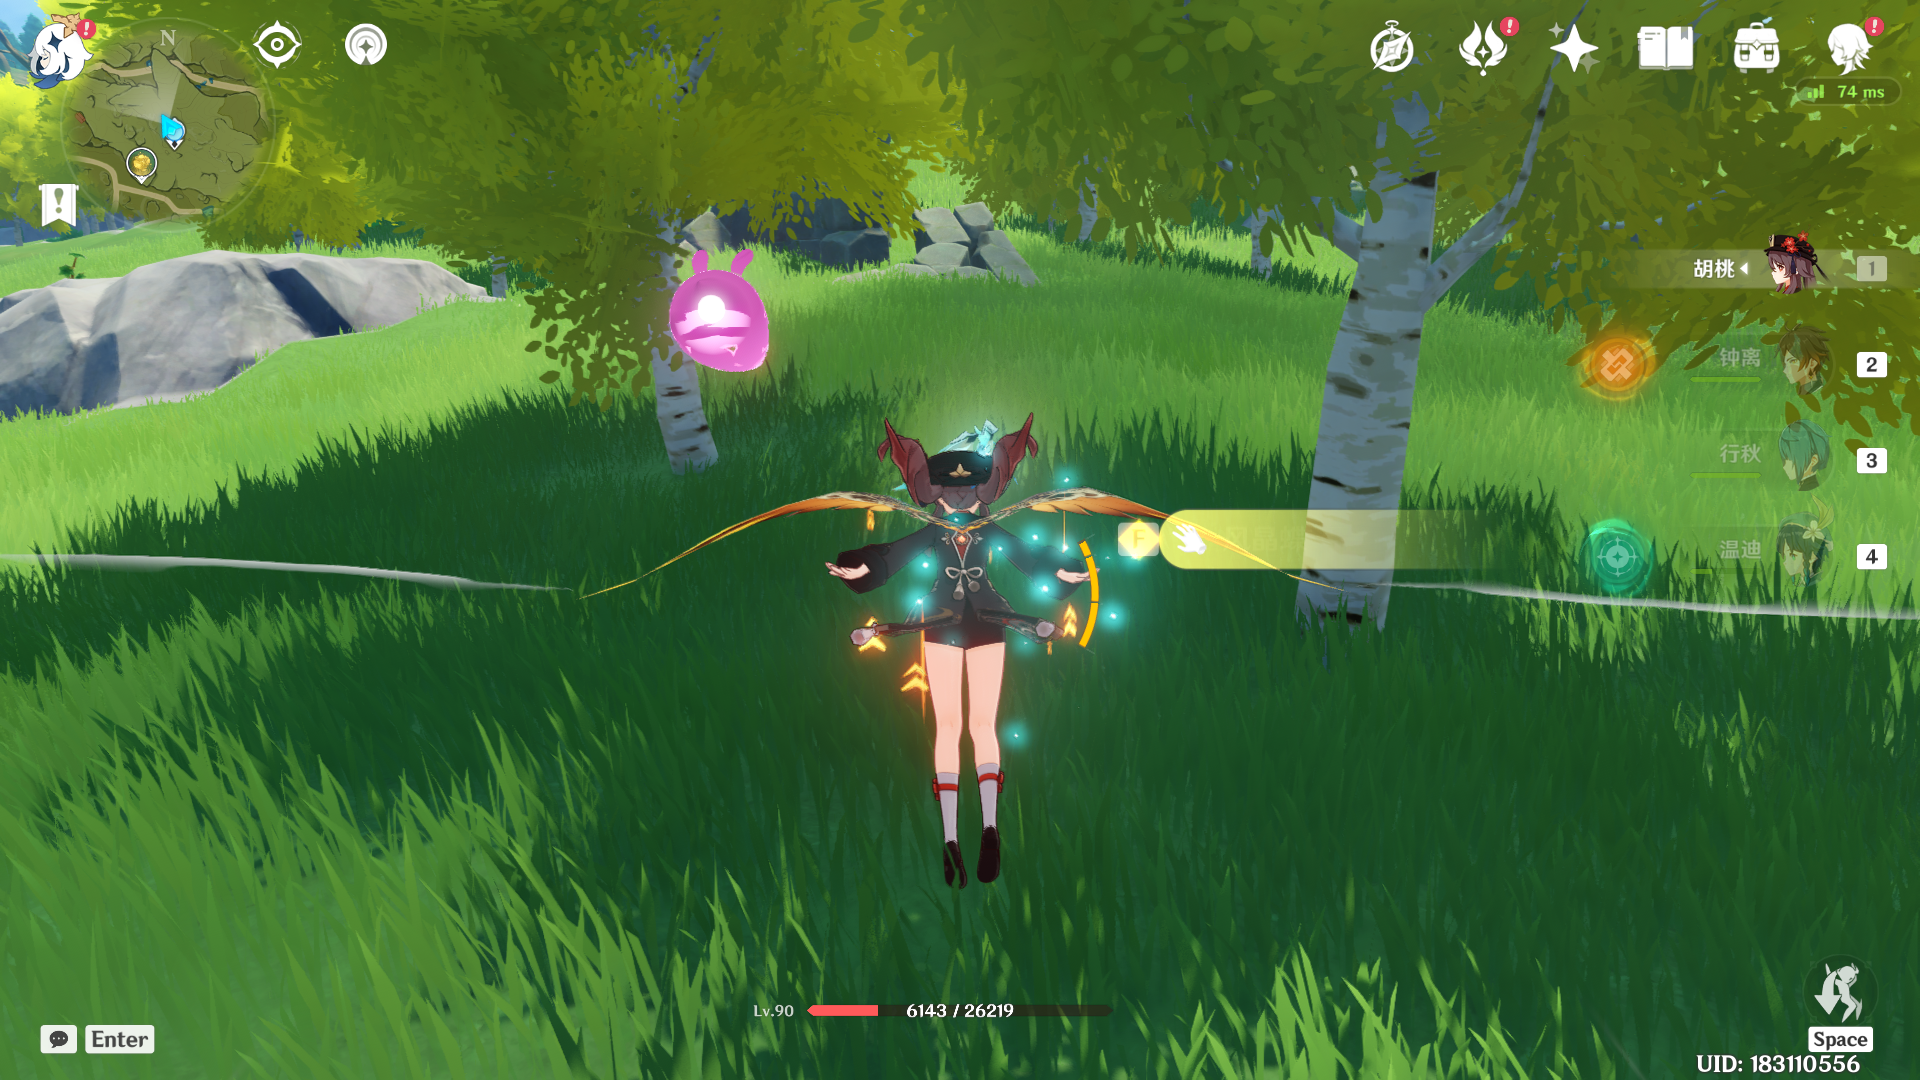character: (786, 400, 1163, 906)
